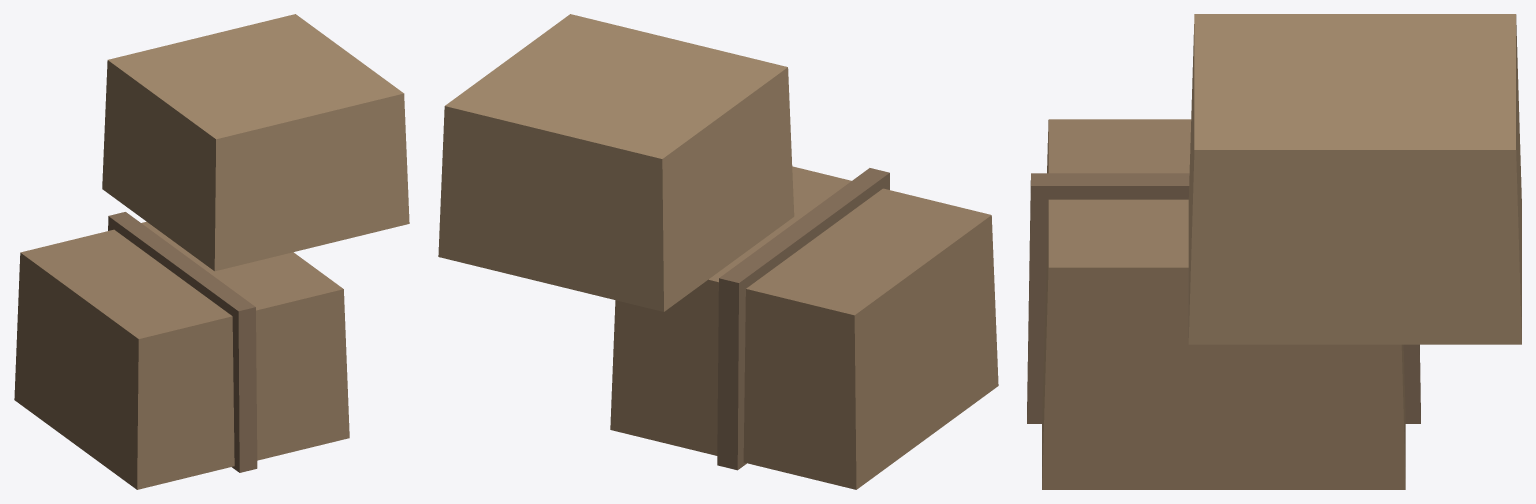
The model's file is crate_stack.glb.
The picture shows the model from 3 angles, left to right: view 1: azimuth 30°, elevation 25°; view 2: azimuth 150°, elevation 25°; view 3: azimuth 270°, elevation 25°; orthographic projection. The views are drawn at different scales.
Visible parts, largest first — view 1: part_0, part_1, part_2; view 2: part_1, part_0, part_2; view 3: part_1, part_0, part_2.
Part boxes in pixels (x1,y1,x2,y2): part_0: (14, 221, 349, 489); part_1: (102, 14, 409, 271); part_2: (108, 212, 257, 472); part_1: (438, 14, 794, 311); part_0: (610, 166, 998, 489); part_2: (717, 168, 889, 470); part_1: (1188, 14, 1521, 344); part_0: (1042, 119, 1405, 489); part_2: (1027, 173, 1420, 423).
Bounding box in the file's own units: 1.09 × 0.92 × 0.98.
